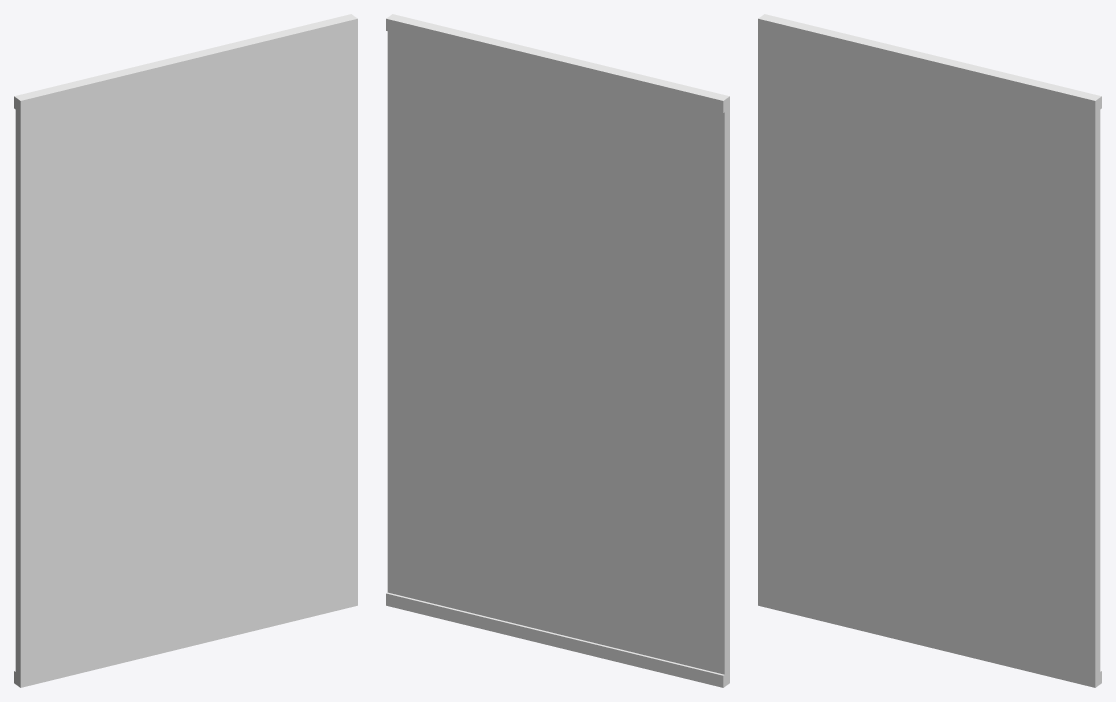
File: venice_road_13.fbx
3 renders of one model, left to right at view 1: azimuth 30°, elevation 25°; view 2: azimuth 150°, elevation 25°; view 3: azimuth 330°, elevation 25°, orthographic.
Parts seen in each view (by area): view 1: Cube.292; view 2: Cube.292; view 3: Cube.292.
Part boxes in pixels (x1,y1,x2,y2): Cube.292: (14,14,357,687); Cube.292: (386,14,729,687); Cube.292: (758,14,1101,687).
Bounding box in the file's own units: 1920 × 3194 × 63.5.
